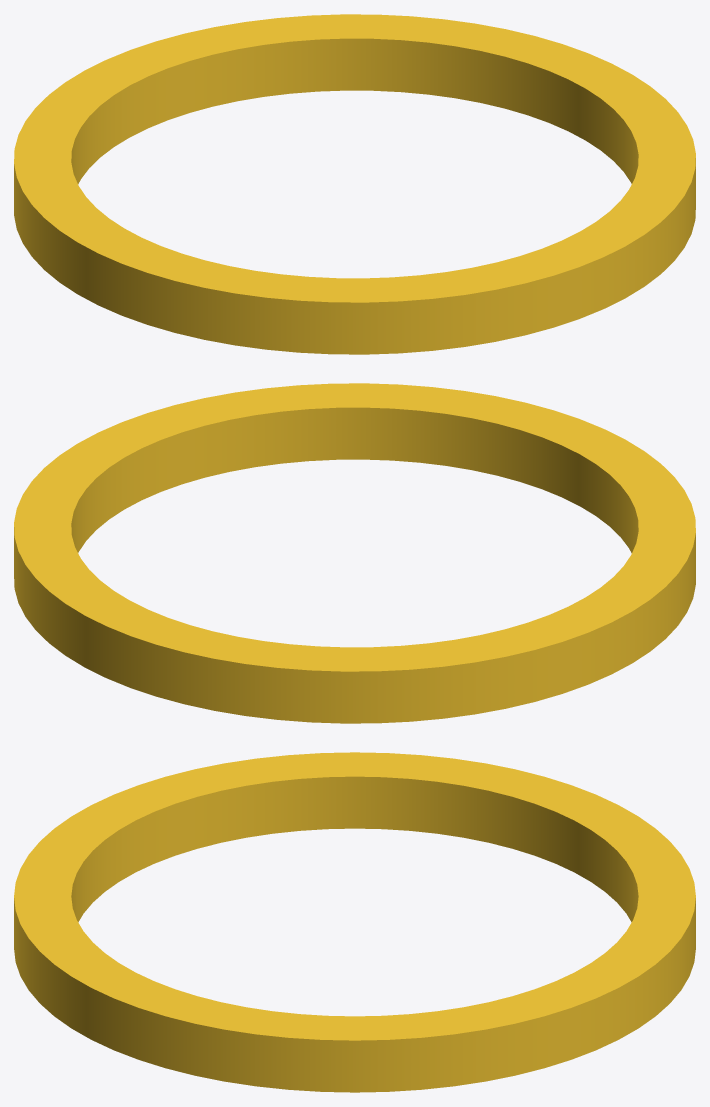
The model's file is track01.FBX.
3 views of the same model, one above another, from view 1: azimuth 30°, elevation 25°; view 2: azimuth 150°, elevation 25°; view 3: azimuth 270°, elevation 25° (orthographic).
Visible parts, largest first — view 1: track01; view 2: track01; view 3: track01.
Part boxes in pixels (x1,y1,x2,y2): track01: (14,14,695,354); track01: (14,383,695,723); track01: (14,752,695,1092).
Size of the model in its own units: 5.95 by 0.5 by 5.95.
1 material, 1 textured.
